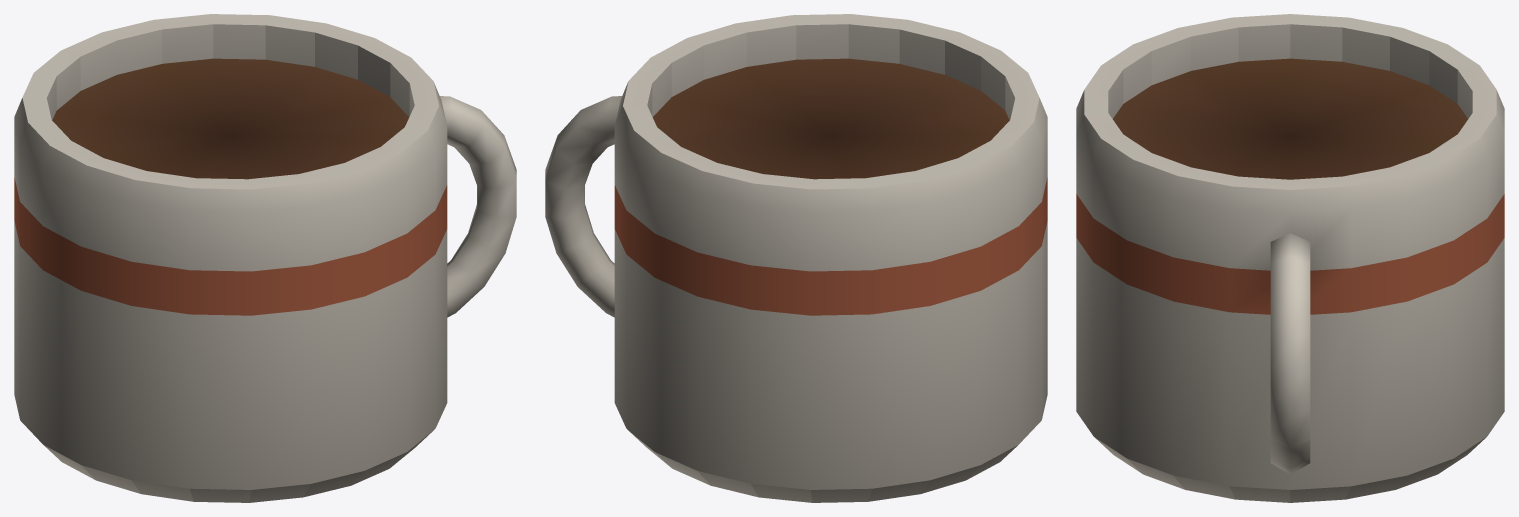
The model's file is tasse.glb.
3 views of the same model, side by side, from view 1: azimuth 30°, elevation 25°; view 2: azimuth 150°, elevation 25°; view 3: azimuth 270°, elevation 25° (orthographic).
Visible parts, largest first — view 1: tasse; view 2: tasse; view 3: tasse.
Boxes of the visible parts, bbox=[...] form: tasse: bbox=[14, 14, 516, 502]; tasse: bbox=[545, 14, 1047, 502]; tasse: bbox=[1076, 14, 1504, 502].
Bounding box in the file's own units: 2.02 × 1.3 × 1.58.
